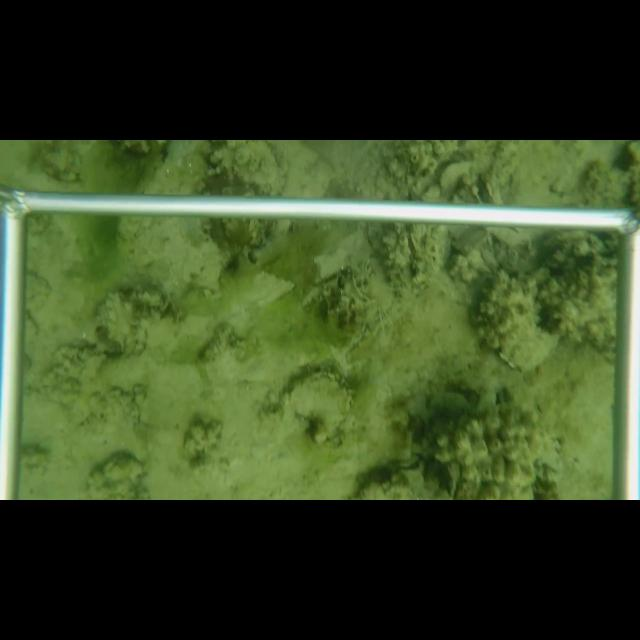Oyster-Closed: (473, 270, 560, 377), (276, 369, 358, 448)
Oyster-Open: (392, 454, 426, 498)
